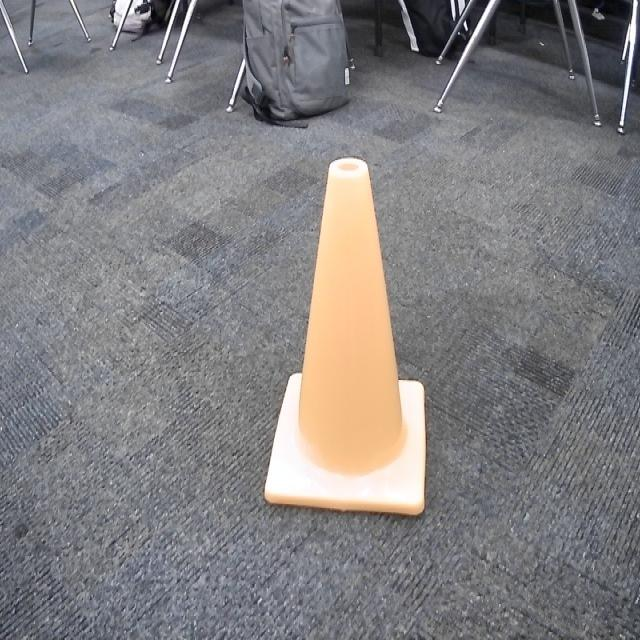cone: (265, 156, 429, 520)
